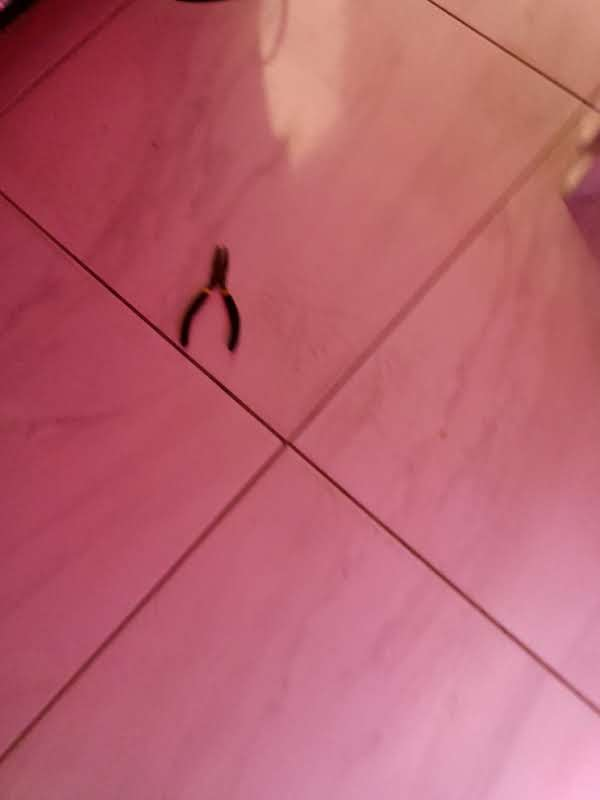Pinzas: (178, 244, 239, 350)
